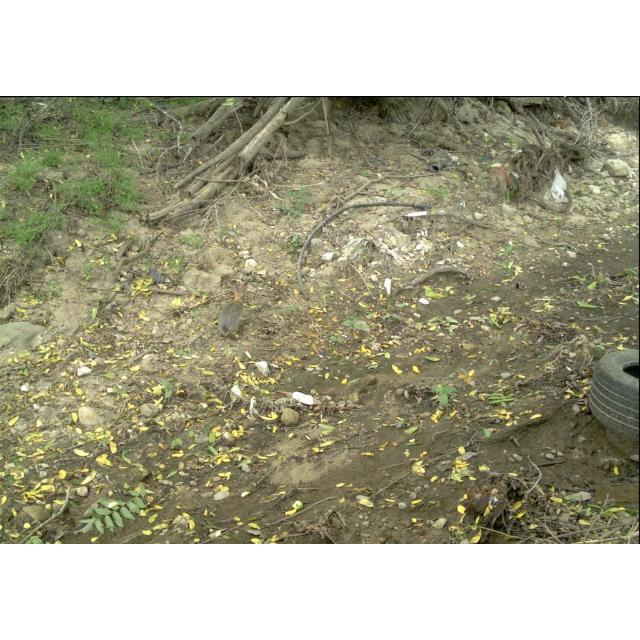animals: (217, 280, 251, 348)
